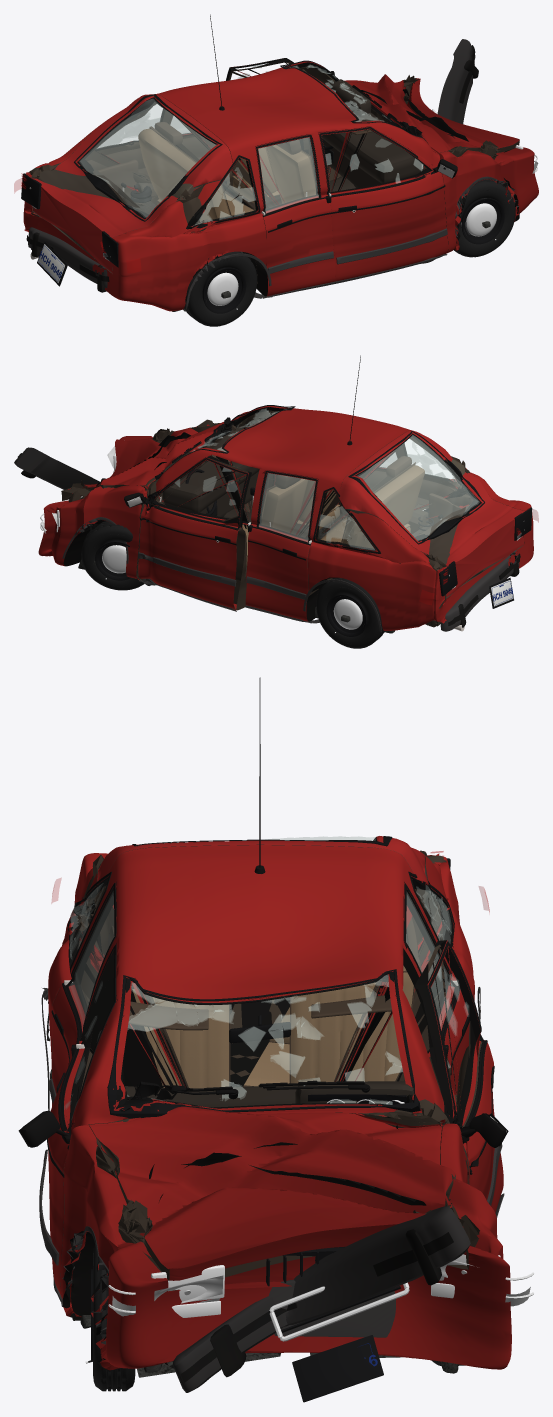
The model's file is hatchback85_front_d2.glb.
3 renders of one model, top to bottom at view 1: azimuth 30°, elevation 25°; view 2: azimuth 150°, elevation 25°; view 3: azimuth 270°, elevation 25°, orthographic. The views are drawn at different scales.
Parts seen in each view (by area): view 1: Body, Interior, Hatch, Door_FR, Glass_Hatch, Door_RR, Hood, Wheel_RR_mesh, Glass_RR, Wheel_FR_mesh, Glass, Trim_FR (+9 smaller); view 2: Body, Interior, Door_FL, Hatch, Glass_Hatch, Door_RL, Hood, Wheel_RL_mesh, Glass_RL, Wheel_FL_mesh, Glass, Trim_FL (+7 smaller); view 3: Body, Hood, Interior, Bumper_F, Glass, Ends, Door_FL, Trim, Door_FR, Door_RR, Trim_FR, Trim_FL (+9 smaller).
Part boxes in pixels (x1=…): Body: x1=23, y1=61, x2=538, y2=311; Interior: x1=98, y1=69, x2=424, y2=222; Hatch: x1=31, y1=94, x2=233, y2=273; Door_FR: x1=318, y1=126, x2=448, y2=281; Glass_Hatch: x1=74, y1=94, x2=222, y2=221; Door_RR: x1=255, y1=134, x2=335, y2=296; Hood: x1=348, y1=74, x2=519, y2=154; Wheel_RR_mesh: x1=184, y1=251, x2=257, y2=326; Glass_RR: x1=256, y1=137, x2=321, y2=213; Wheel_FR_mesh: x1=454, y1=179, x2=515, y2=257; Glass: x1=97, y1=60, x2=427, y2=228; Trim_FR: x1=319, y1=127, x2=457, y2=283; Body: x1=38, y1=406, x2=533, y2=630; Interior: x1=161, y1=412, x2=461, y2=579; Door_FL: x1=137, y1=456, x2=251, y2=610; Hatch: x1=338, y1=430, x2=524, y2=598; Glass_Hatch: x1=348, y1=431, x2=484, y2=544; Door_RL: x1=245, y1=470, x2=318, y2=621; Hood: x1=61, y1=423, x2=224, y2=500; Wheel_RL_mesh: x1=316, y1=577, x2=384, y2=648; Glass_RL: x1=256, y1=472, x2=318, y2=542; Wheel_FL_mesh: x1=81, y1=521, x2=144, y2=590; Glass: x1=155, y1=405, x2=456, y2=552; Trim_FL: x1=124, y1=458, x2=248, y2=611; Body: x1=48, y1=845, x2=511, y2=1370; Hood: x1=88, y1=1106, x2=466, y2=1280; Interior: x1=109, y1=918, x2=421, y2=1107; Bumper_F: x1=172, y1=1206, x2=470, y2=1392; Glass: x1=67, y1=876, x2=451, y2=1118; Ends: x1=108, y1=858, x2=534, y2=1402; Door_FL: x1=415, y1=940, x2=503, y2=1212; Trim: x1=41, y1=677, x2=480, y2=1344; Door_FR: x1=48, y1=943, x2=117, y2=1298; Door_RR: x1=52, y1=881, x2=116, y2=1105; Trim_FR: x1=18, y1=944, x2=116, y2=1306; Trim_FL: x1=428, y1=941, x2=508, y2=1218.
Size of the model in its own units: 3.99 by 2.14 by 2.01.
Materials: 32 (5 with a texture image).
